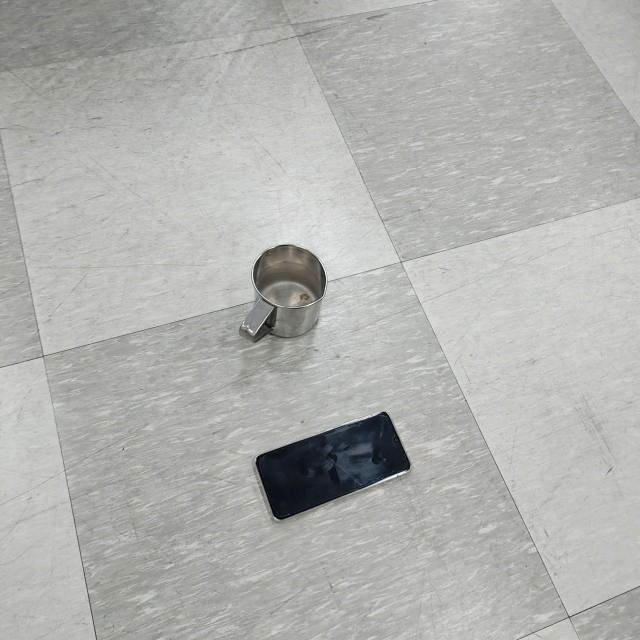cup: (239, 242, 326, 345)
phone: (252, 409, 413, 523)
